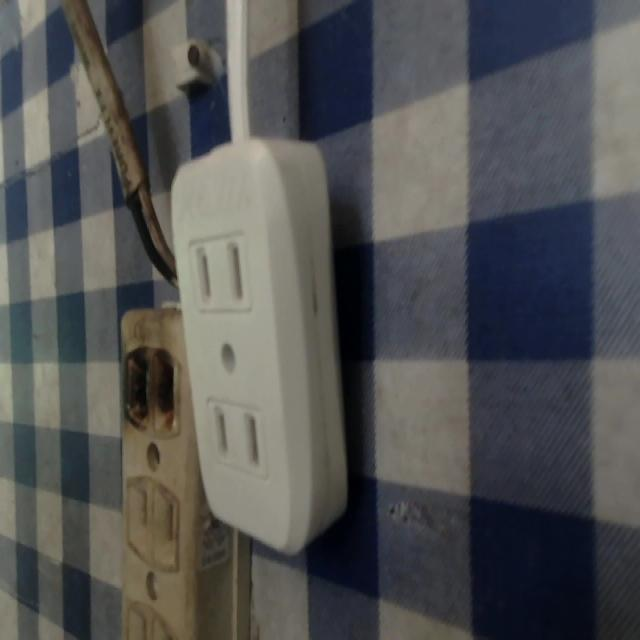-: (114, 340, 185, 440)
